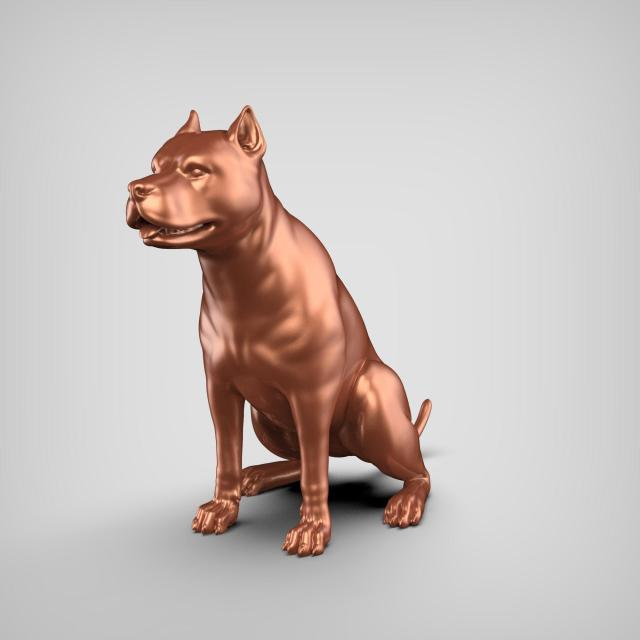Without deffect: (101, 101, 462, 568)
